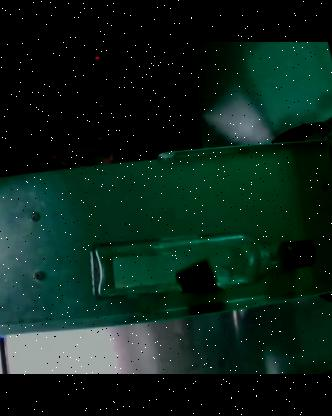Others: (89, 235, 314, 298)
